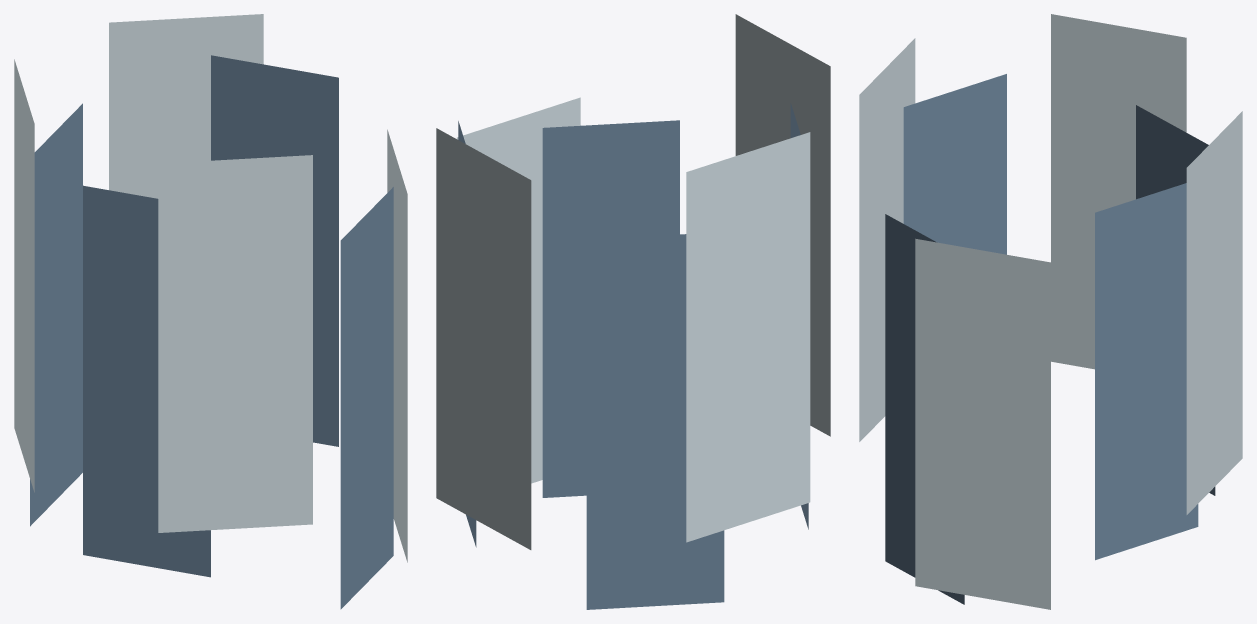
File: efx_scm_rain_eff1.glb
The picture shows the model from 3 angles, left to right: view 1: azimuth 30°, elevation 25°; view 2: azimuth 150°, elevation 25°; view 3: azimuth 270°, elevation 25°; orthographic projection. The views are drawn at different scales.
Bounding box in the file's own units: 0.2 × 0.2572 × 0.2.
